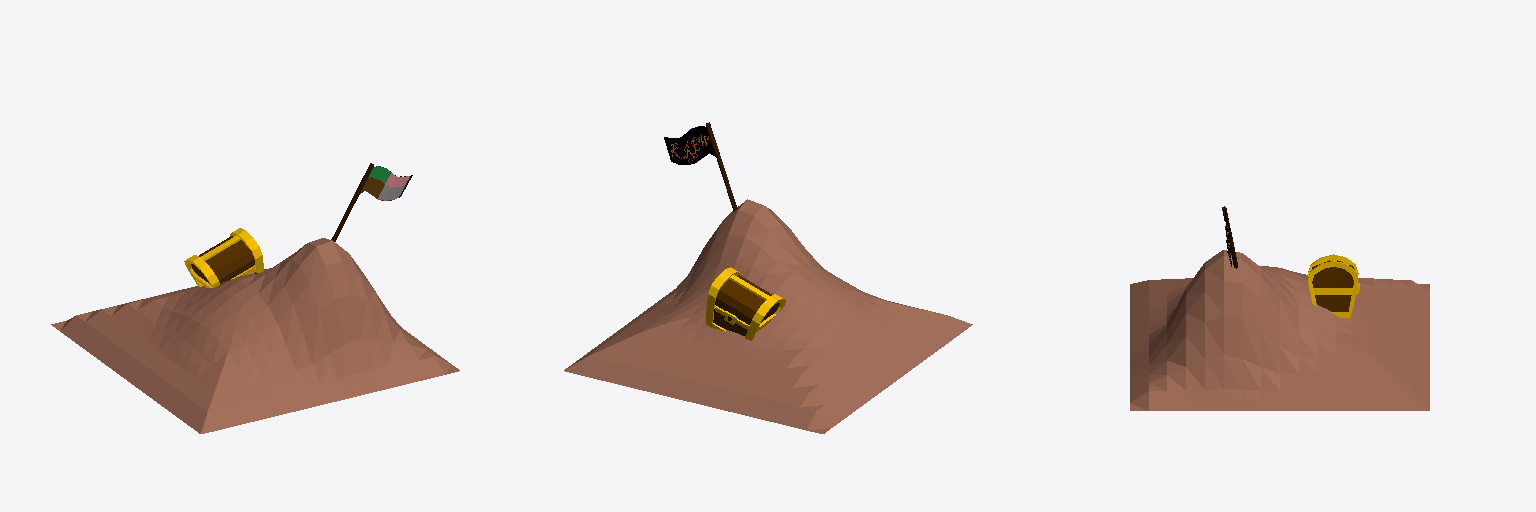
3 views of the same model, side by side, from view 1: azimuth 30°, elevation 25°; view 2: azimuth 150°, elevation 25°; view 3: azimuth 270°, elevation 25° (orthographic).
Parts seen in each view (by area): view 1: Cube_Cube.001; view 2: Cube_Cube.001; view 3: Cube_Cube.001.
Part boxes in pixels (bbox=[...]): Cube_Cube.001: bbox=[51, 163, 459, 433]; Cube_Cube.001: bbox=[564, 122, 972, 433]; Cube_Cube.001: bbox=[1130, 206, 1429, 410].
Size of the model in its own units: 5.64 by 3.8 by 5.64.
1 materials, 1 textured.